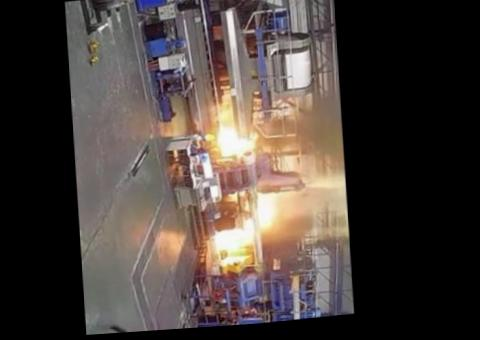fire: (147, 34, 338, 287)
